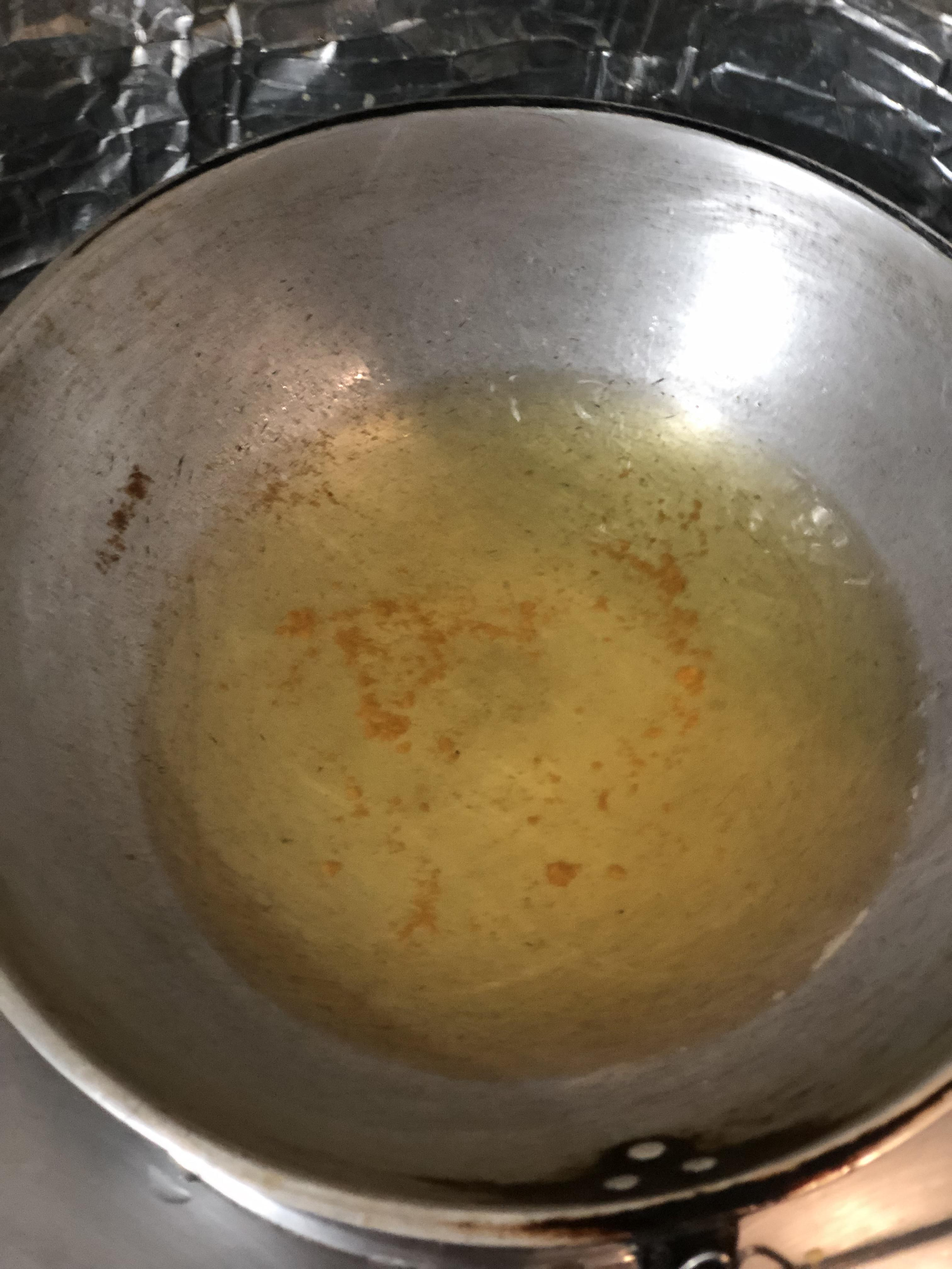reusable: (139, 381, 916, 1073)
